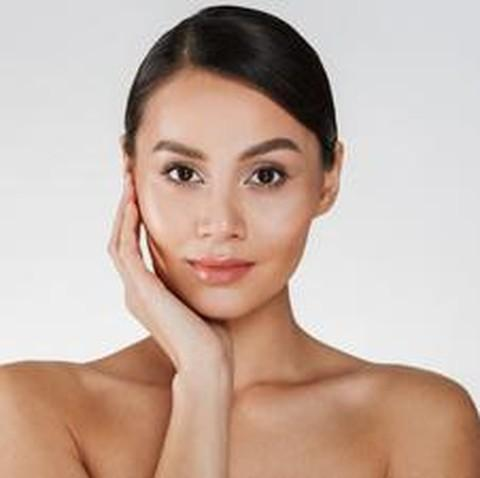Oily-Skin: (264, 228, 316, 268), (205, 102, 268, 135), (154, 204, 200, 235), (171, 111, 199, 145), (205, 290, 232, 322)
